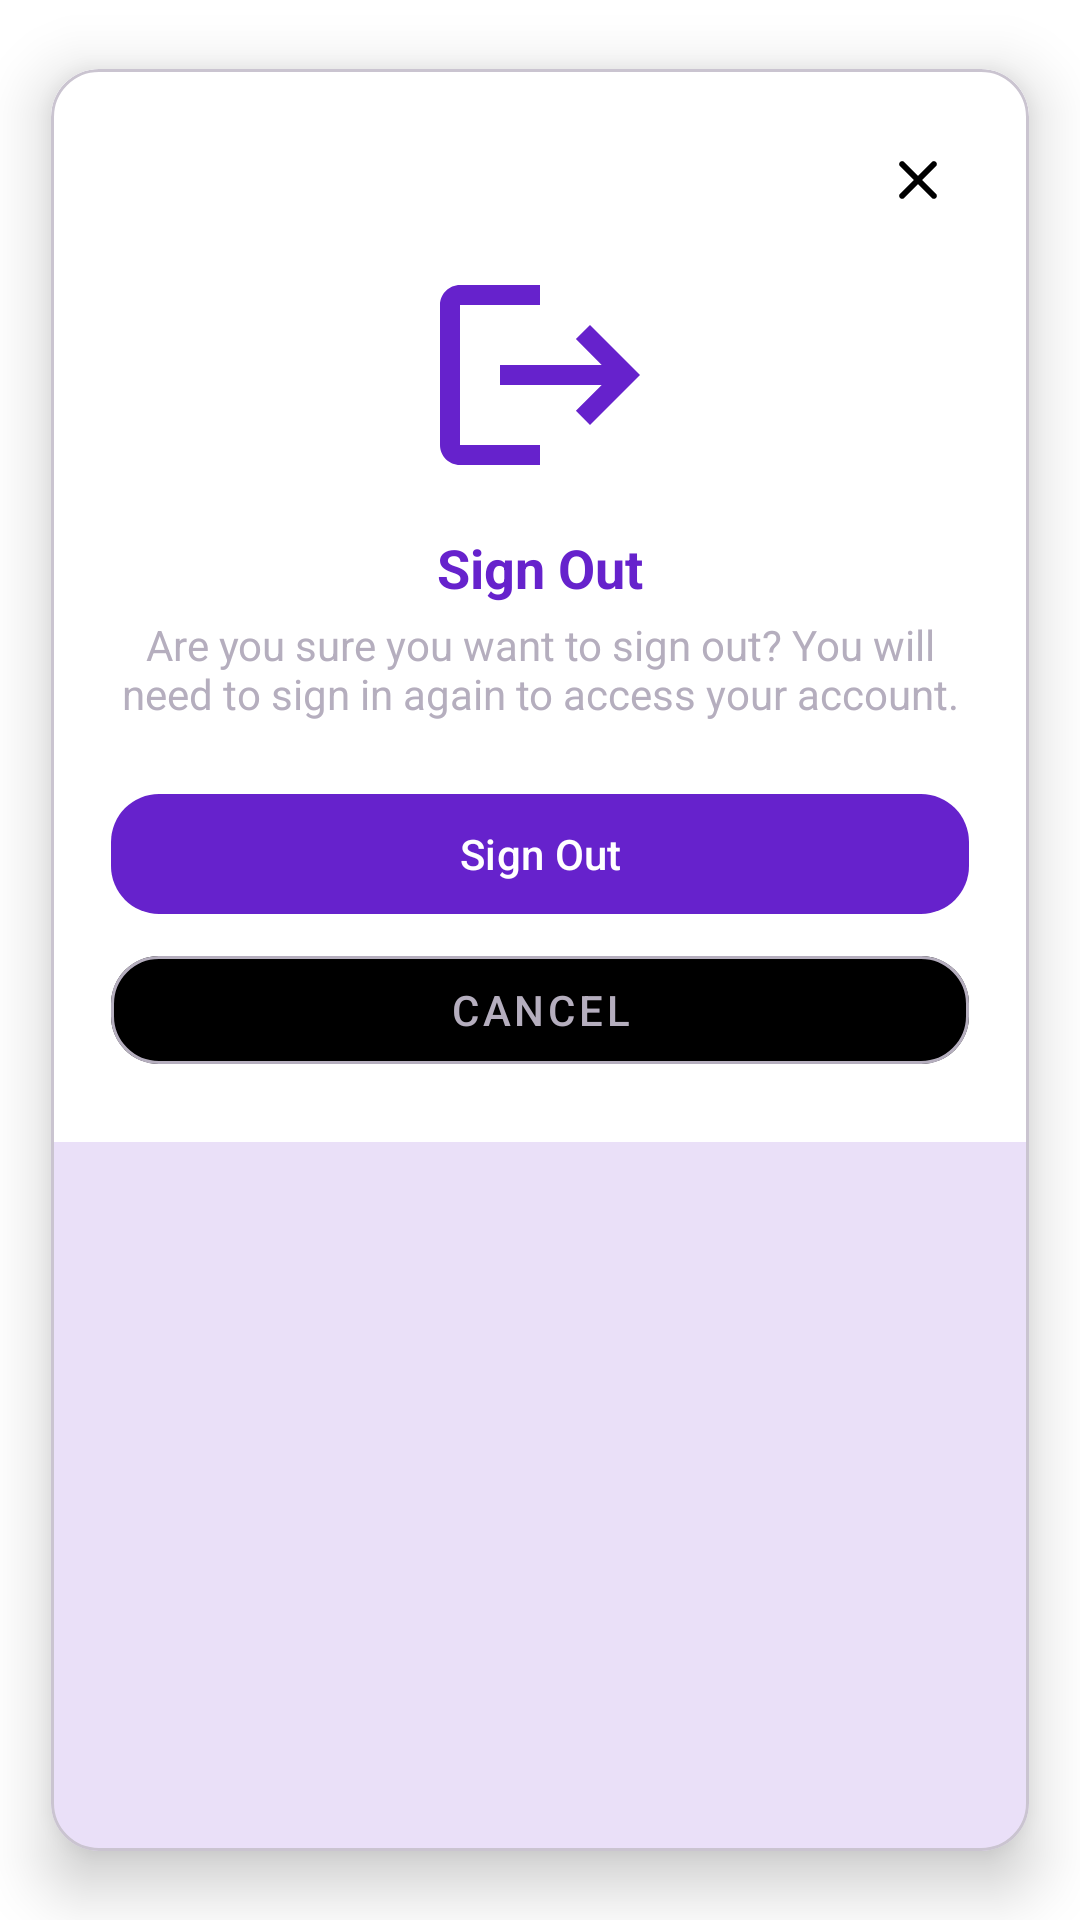

Icons on this 1080*1920 Android screen, each with the point to tap as (x=x, y=y):
close: (x=918, y=180)
loogout: (x=540, y=375)
